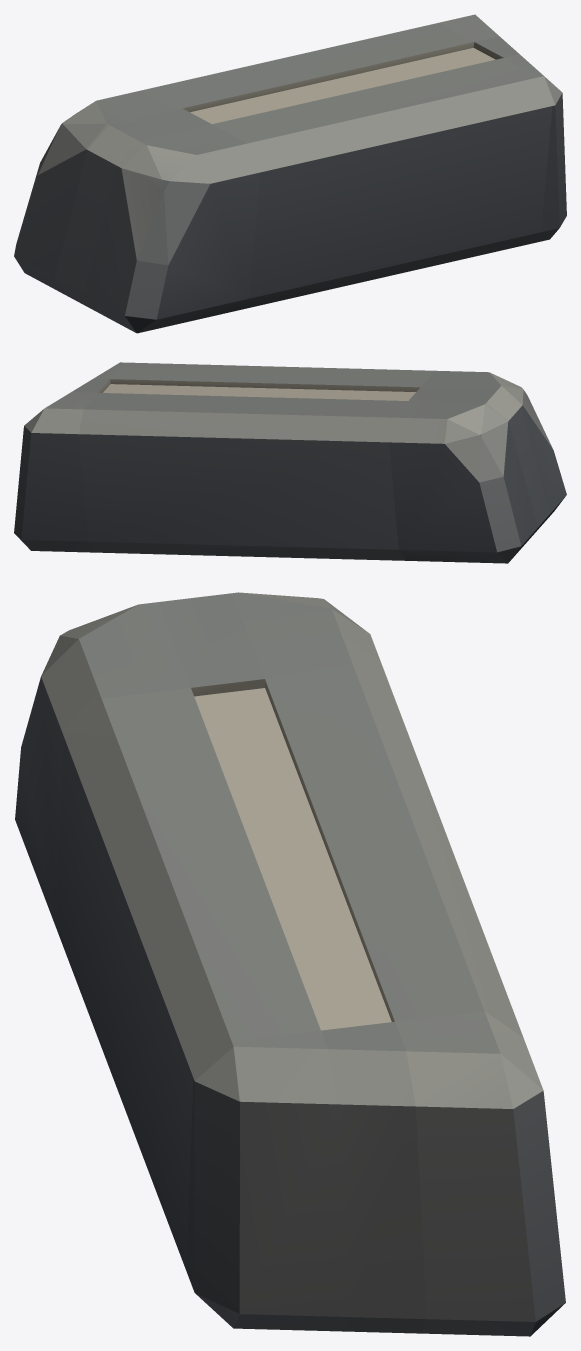
The model's file is needle_shard.glb.
3 renders of one model, top to bottom at view 1: azimuth 30°, elevation 25°; view 2: azimuth 150°, elevation 25°; view 3: azimuth 270°, elevation 25°, orthographic. The views are drawn at different scales.
Visible parts, largest first — view 1: needle_shard; view 2: needle_shard; view 3: needle_shard.
Boxes of the visible parts, x1,y1,x2,y2 form: needle_shard: (14, 14, 566, 333); needle_shard: (14, 362, 566, 563); needle_shard: (15, 592, 565, 1336).
Size of the model in its own units: 0.6944 by 0.2733 by 0.365.
